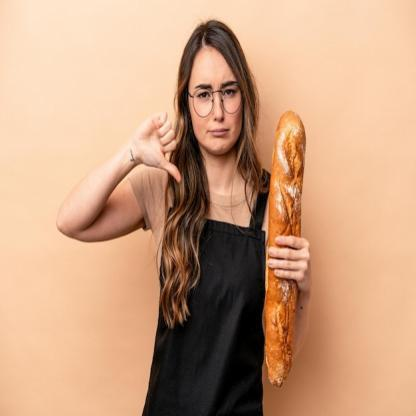thumb_down: (130, 108, 184, 188)
